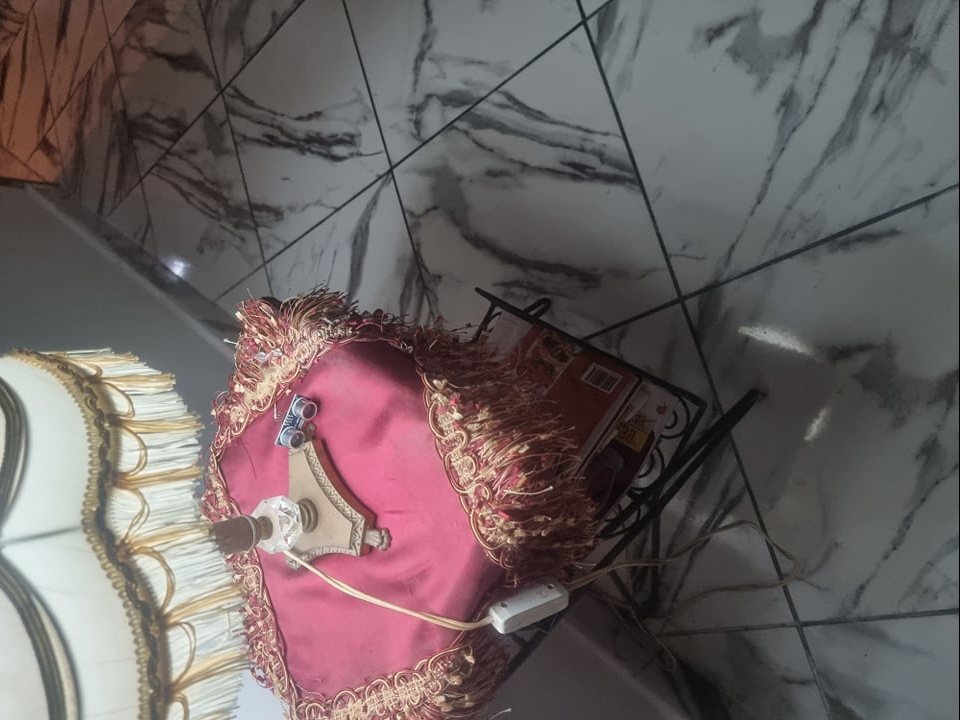SENSOR: (277, 397, 318, 452)
